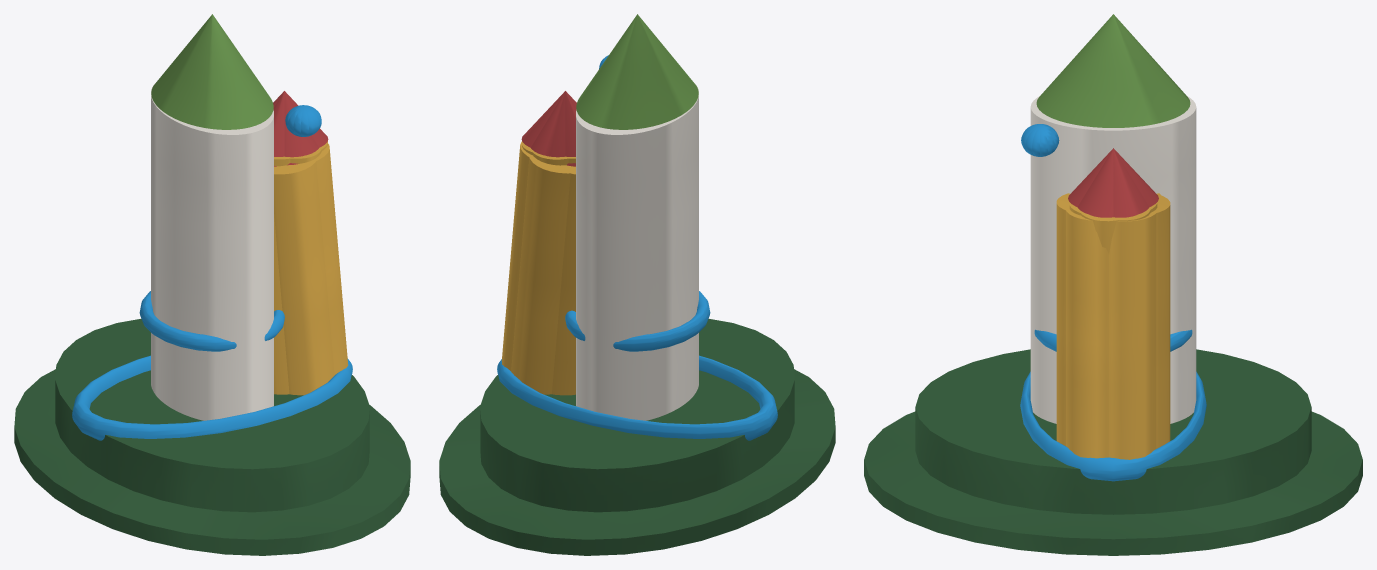
File: 0671_史前人类图鉴_拉斯科洞穴岩画.glb
The picture shows the model from 3 angles, left to right: view 1: azimuth 30°, elevation 25°; view 2: azimuth 150°, elevation 25°; view 3: azimuth 270°, elevation 25°; orthographic projection. The views are drawn at different scales.
Visible parts, largest first — view 1: card_0671; view 2: card_0671; view 3: card_0671.
Part boxes in pixels (x1,y1,x2,y2): card_0671: [14, 14, 410, 555]; card_0671: [439, 14, 835, 555]; card_0671: [864, 14, 1362, 555].
Bounding box in the file's own units: 0.7411 × 1 × 0.978.
